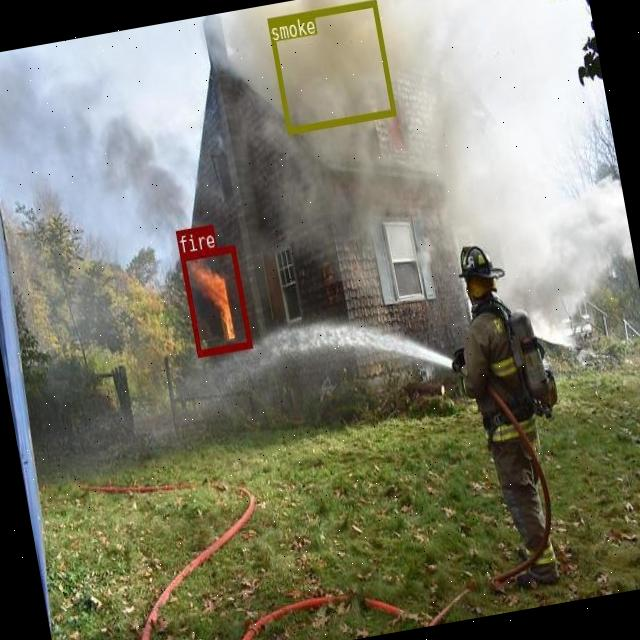fire: (178, 245, 252, 356)
smoke: (267, 0, 395, 132)
